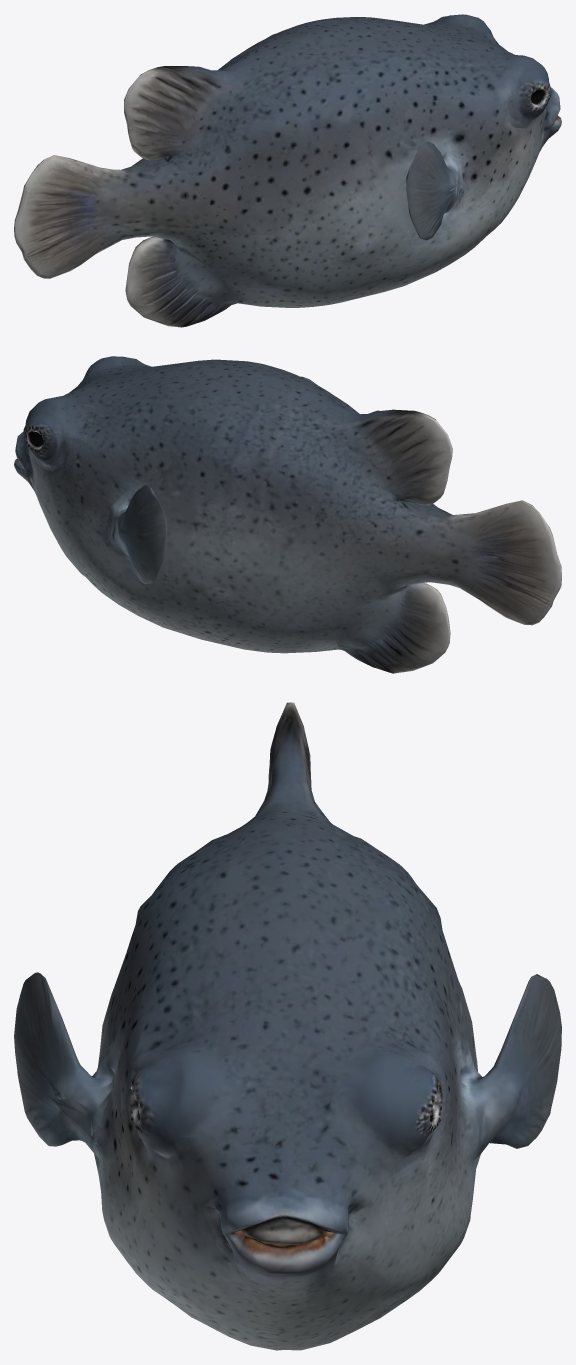
File: puffer.glb
3 views of the same model, one above another, from view 1: azimuth 30°, elevation 25°; view 2: azimuth 150°, elevation 25°; view 3: azimuth 270°, elevation 25° (orthographic). The views are drawn at different scales.
Parts seen in each view (by area): view 1: tripo_node_5342159c-313c-484c-bbd9-cb1bdfe3f6ce; view 2: tripo_node_5342159c-313c-484c-bbd9-cb1bdfe3f6ce; view 3: tripo_node_5342159c-313c-484c-bbd9-cb1bdfe3f6ce.
Boxes of the visible parts, bbox=[...] form: tripo_node_5342159c-313c-484c-bbd9-cb1bdfe3f6ce: bbox=[14, 14, 561, 327]; tripo_node_5342159c-313c-484c-bbd9-cb1bdfe3f6ce: bbox=[14, 356, 561, 673]; tripo_node_5342159c-313c-484c-bbd9-cb1bdfe3f6ce: bbox=[14, 702, 561, 1350].
Size of the model in its own units: 1 by 0.4758 by 0.5321.
Materials: 1 (1 with a texture image).
